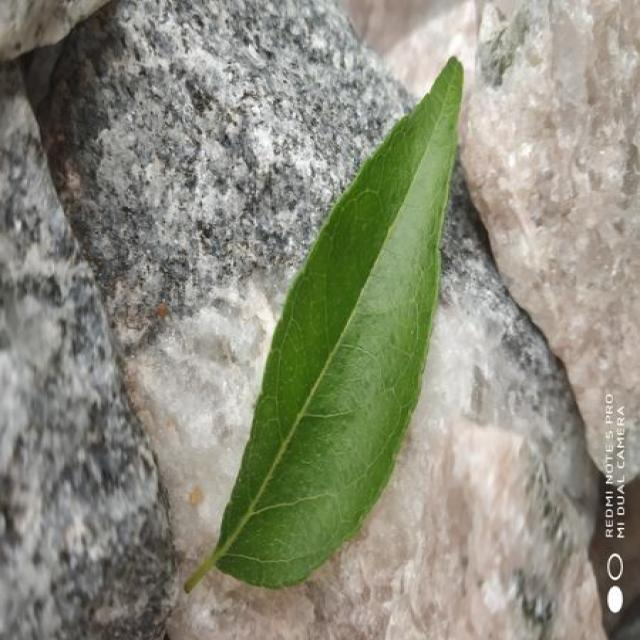curry: (210, 59, 463, 588)
